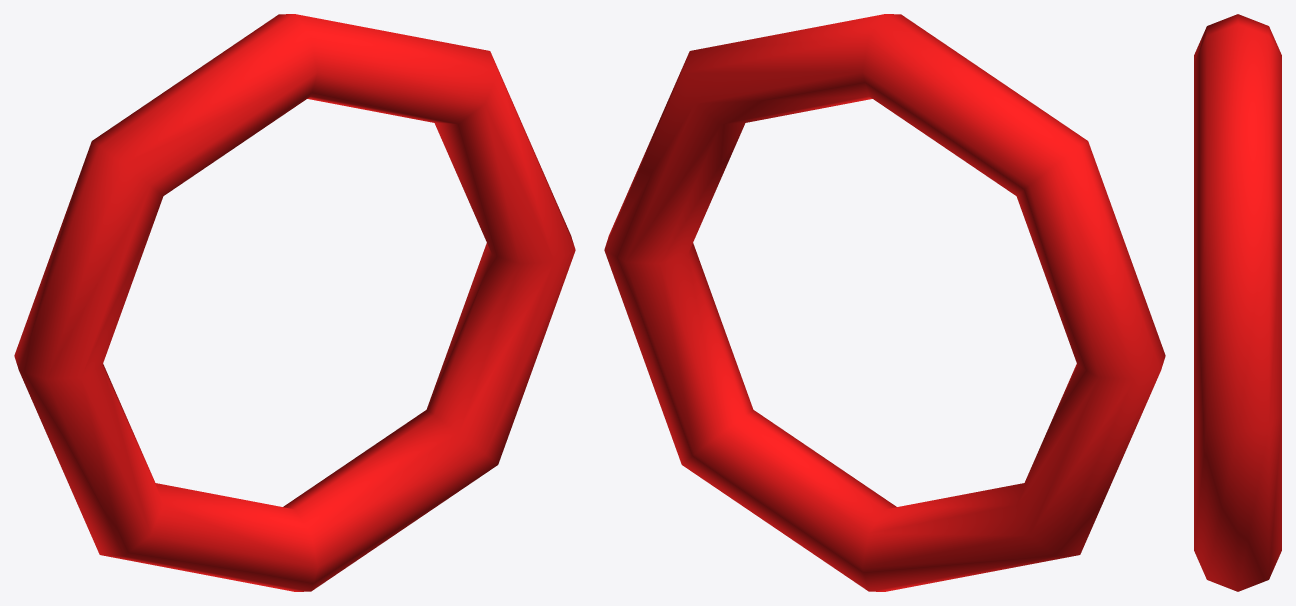
3 views of the same model, side by side, from view 1: azimuth 30°, elevation 25°; view 2: azimuth 150°, elevation 25°; view 3: azimuth 270°, elevation 25° (orthographic). The views are drawn at different scales.
Parts seen in each view (by area): view 1: Torus001; view 2: Torus001; view 3: Torus001.
Boxes of the visible parts, left/top/right/bottom form: Torus001: left=14, top=14, right=575, bottom=591; Torus001: left=604, top=14, right=1165, bottom=591; Torus001: left=1194, top=14, right=1281, bottom=591.
Bounding box in the file's own units: 5.51 × 5.51 × 0.7874.
